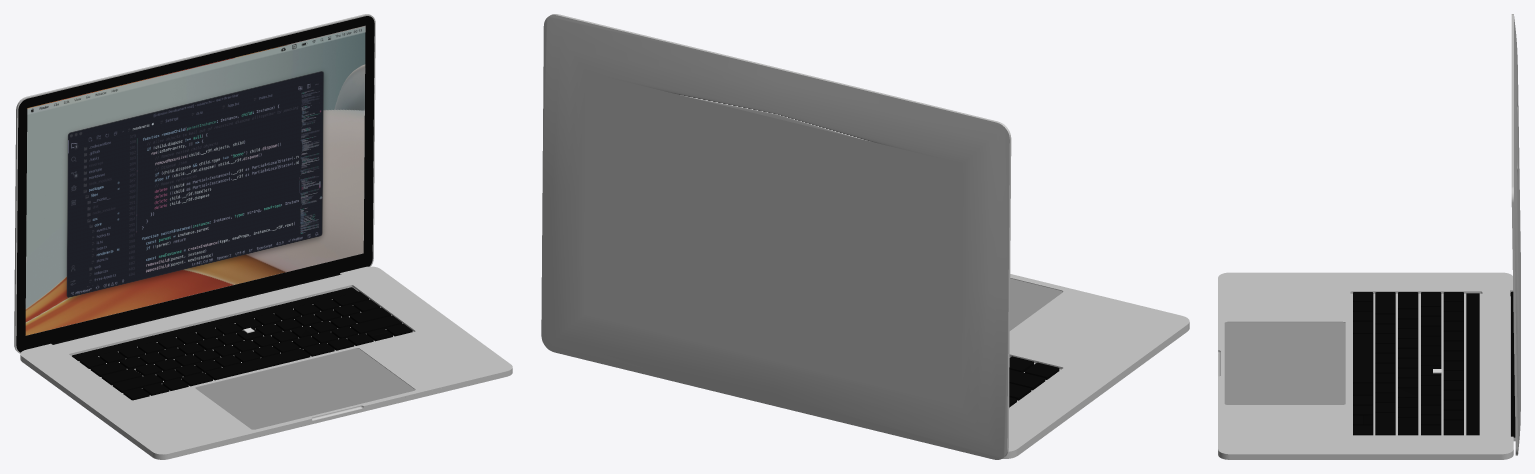
File: mac-draco.glb
3 renders of one model, left to right at view 1: azimuth 30°, elevation 25°; view 2: azimuth 150°, elevation 25°; view 3: azimuth 270°, elevation 25°, orthographic. The views are drawn at different scales.
Visible parts, largest first — view 1: screen, base, keyboard, touchbar; view 2: screen, base, keyboard; view 3: base, keyboard, screen, touchbar.
Part boxes in pixels (x1,y1,x2,y2): screen: (14, 14, 375, 353); base: (20, 266, 512, 459); keyboard: (79, 291, 412, 400); touchbar: (72, 287, 358, 360); screen: (541, 14, 1011, 459); base: (1002, 274, 1189, 458); keyboard: (1009, 356, 1059, 407); base: (1218, 272, 1513, 459); keyboard: (1353, 292, 1463, 435); screen: (1510, 14, 1520, 455); touchbar: (1466, 293, 1479, 435).
Bounding box in the file's own units: 102 × 71.09 × 71.5.
Materials: 7 (1 with a texture image).
